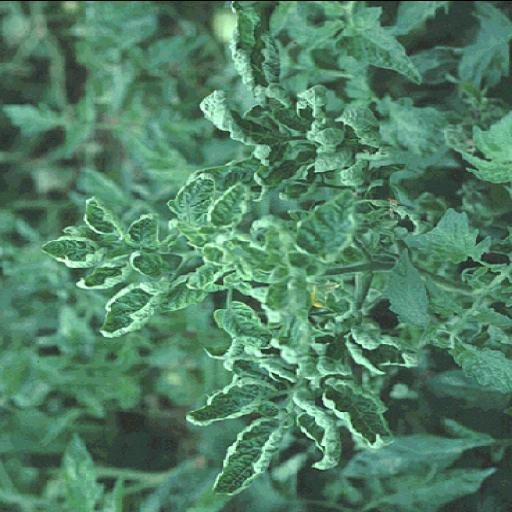disease_tomato: (206, 404, 302, 498), (287, 180, 371, 264), (320, 370, 400, 448), (174, 381, 270, 427), (165, 162, 236, 224), (296, 392, 346, 472), (100, 277, 158, 338), (34, 233, 132, 269), (209, 176, 265, 227), (82, 194, 126, 240)
